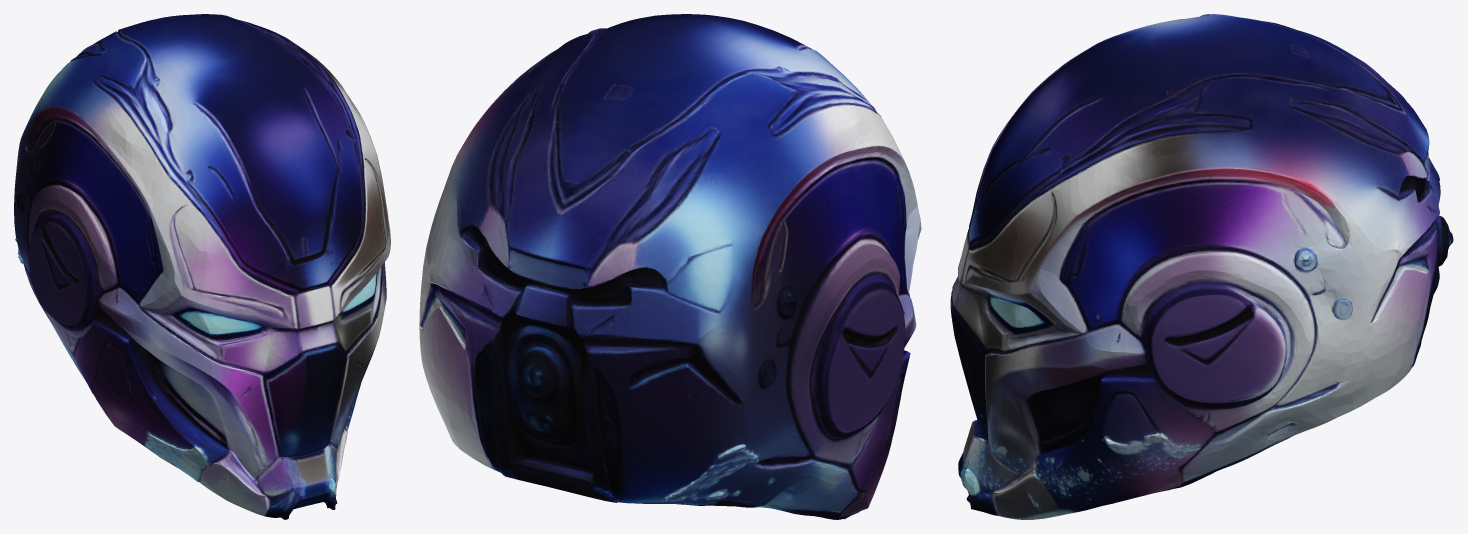
The model's file is anduril_head.glb.
The picture shows the model from 3 angles, left to right: view 1: azimuth 30°, elevation 25°; view 2: azimuth 150°, elevation 25°; view 3: azimuth 270°, elevation 25°; orthographic projection. The views are drawn at different scales.
Parts seen in each view (by area): view 1: world; view 2: world; view 3: world.
Part boxes in pixels (x1=…): world: x1=14, y1=14, x2=390, y2=519; world: x1=419, y1=14, x2=921, y2=519; world: x1=950, y1=14, x2=1453, y2=519.
Bounding box in the file's own units: 0.7687 × 0.9999 × 0.9919.
Materials: 1 (1 with a texture image).
